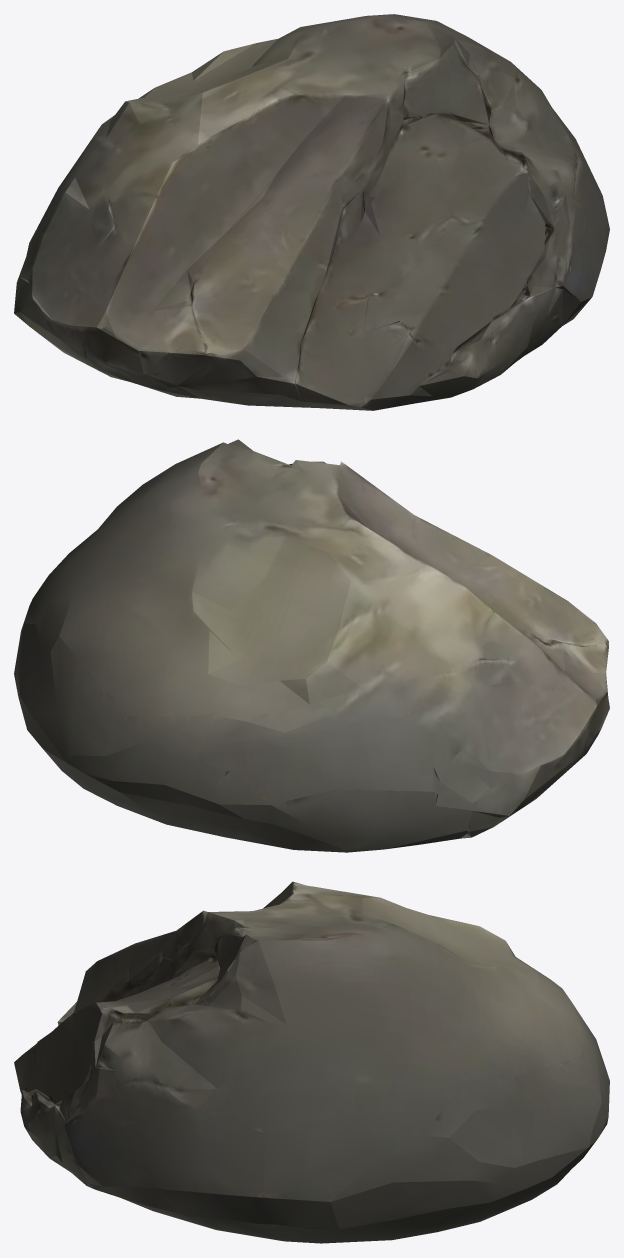
File: rock.glb
The picture shows the model from 3 angles, top to bottom: view 1: azimuth 30°, elevation 25°; view 2: azimuth 150°, elevation 25°; view 3: azimuth 270°, elevation 25°; orthographic projection. The views are drawn at different scales.
Visible parts, largest first — view 1: model; view 2: model; view 3: model.
Part boxes in pixels (x1,y1,x2,y2): model: [14, 14, 609, 410]; model: [14, 439, 609, 852]; model: [14, 881, 609, 1243].
Size of the model in its own units: 1.9 by 0.8989 by 1.86.
Materials: 1 (1 with a texture image).
